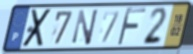2: (143, 6, 169, 46)
7: (99, 10, 121, 44), (53, 10, 73, 47)
F: (115, 6, 148, 47)
N: (71, 8, 101, 47)
X: (20, 8, 54, 49)
